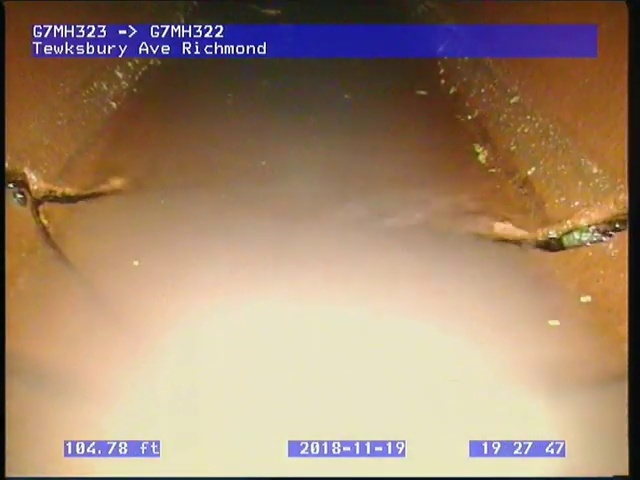crack: (5, 161, 128, 280), (489, 210, 627, 254)
